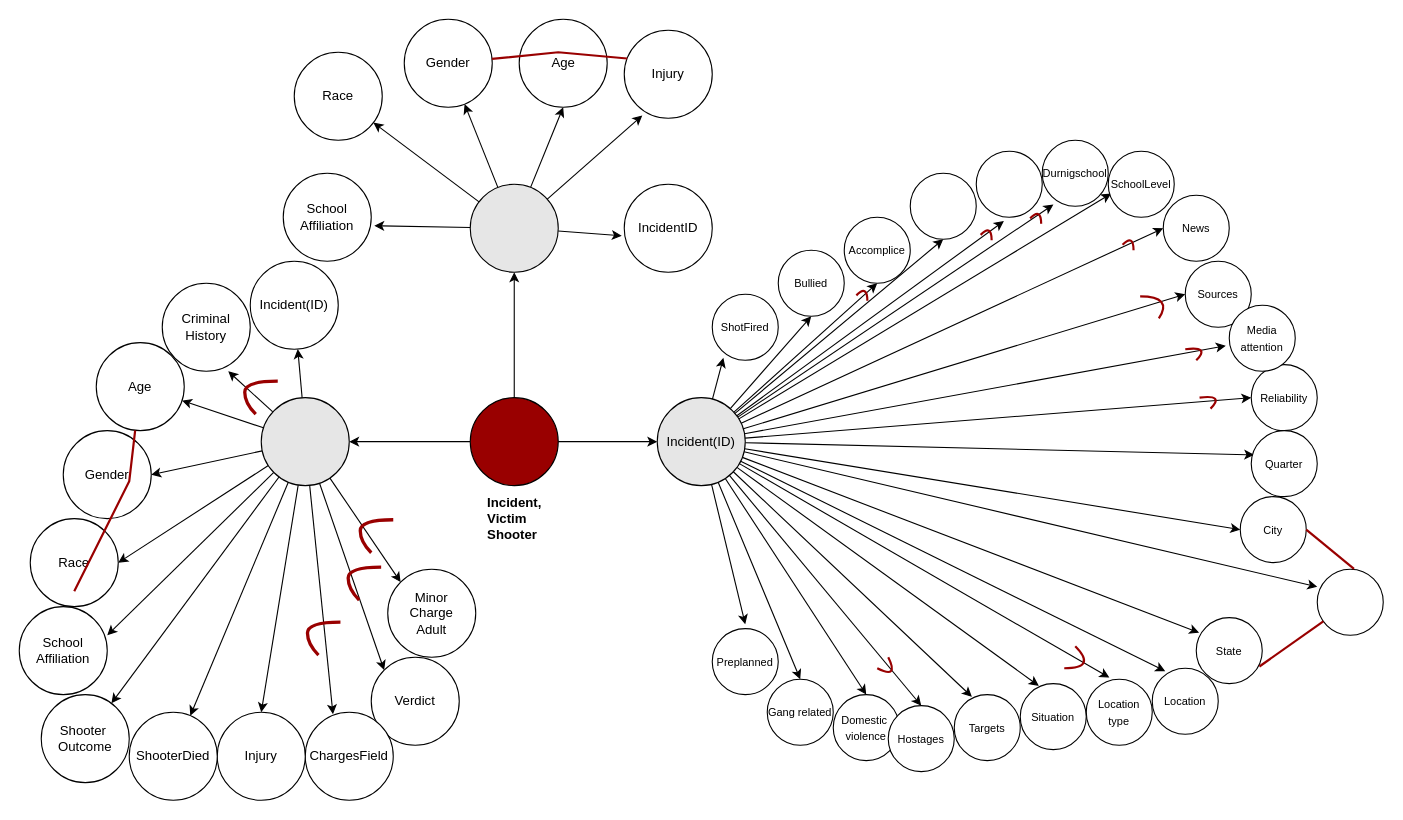
Some shapes in this 1403 by 820 pixel diagram are drawn without their labels. Here are the shapes that lost their labels. From the top down, the box of each, then its label:
(975, 150, 1042, 217): Timeperiod
(909, 172, 976, 239): FirstShot
(469, 183, 558, 272): Victim(ID)
(260, 397, 349, 486): Shooter(ID)
(1316, 568, 1383, 635): School
